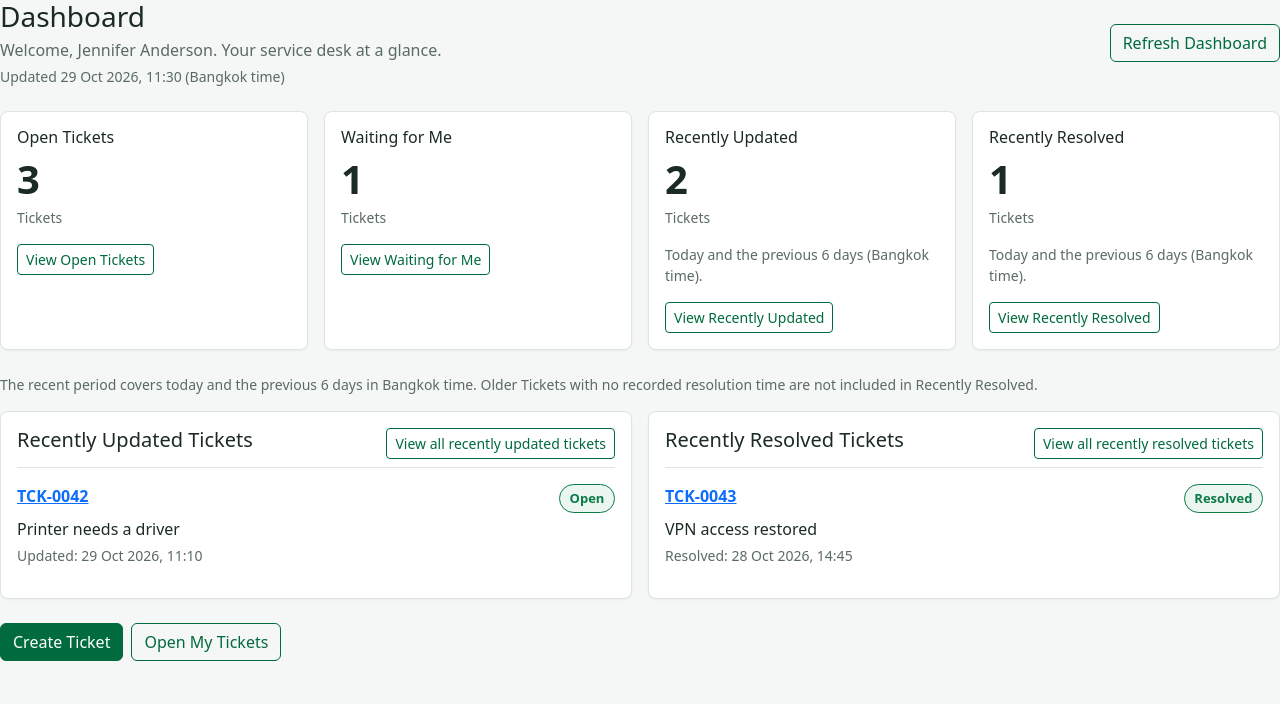
Test: Issue 90 Requester Dashboard › keeps a same-identity prior snapshot visibly stale after Refresh fails
Expected: the link "TCK-0042" is shown, left=17, top=484, right=88, bottom=508
Click the button "Refresh Dashboard": [1195, 43] box left=1110, top=24, right=1279, bottom=62
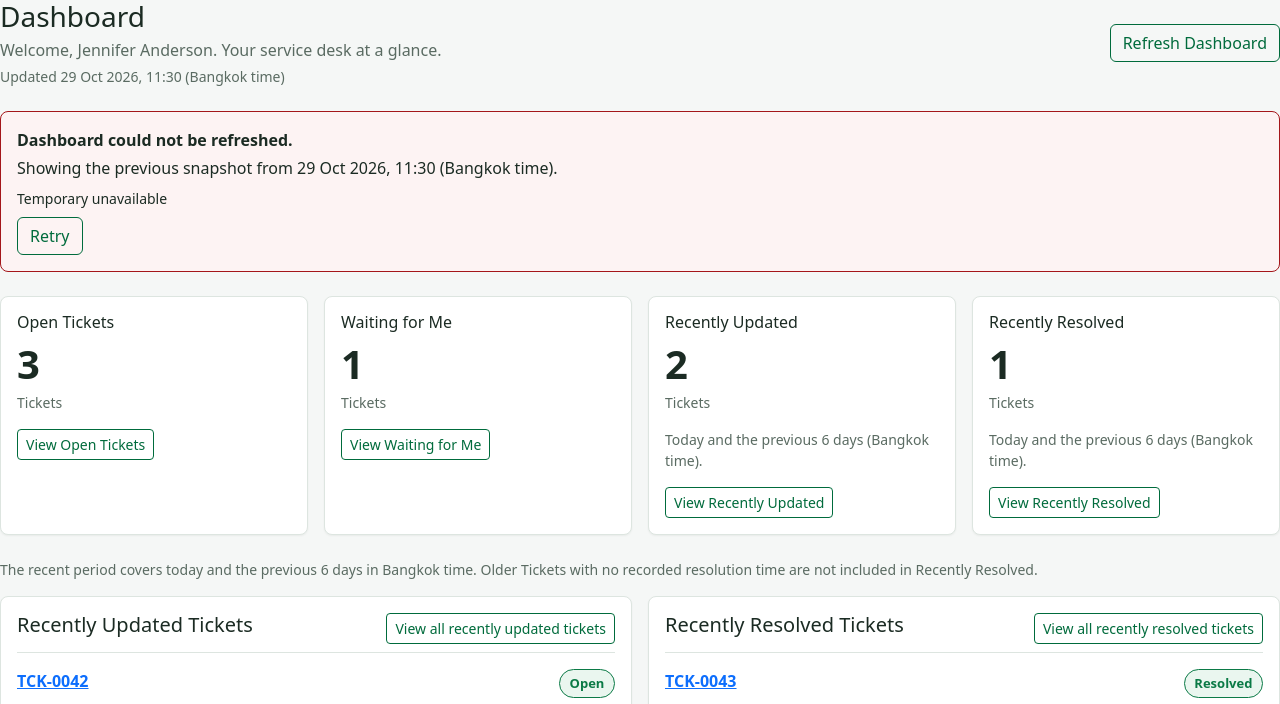
Expected: the link "TCK-0042" is shown, left=17, top=669, right=88, bottom=693
Now the text "Showing the previous snapshot from 29 Oct 2026, 11:30" is shown, box left=17, top=157, right=558, bottom=179
